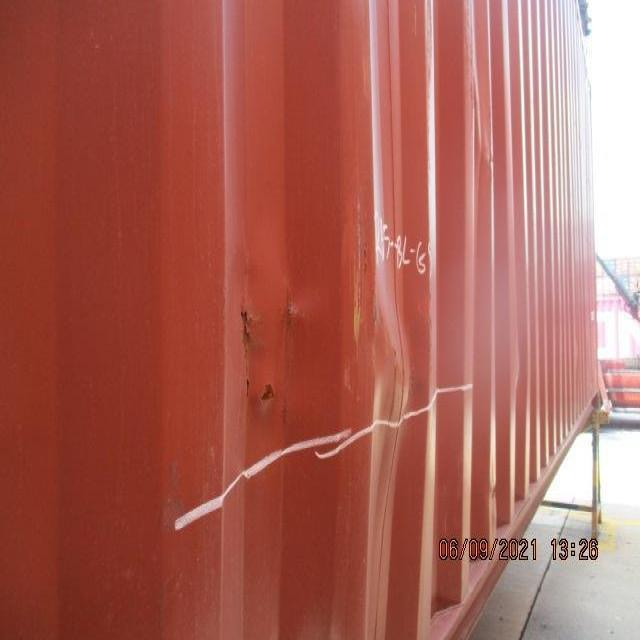Dent: (156, 207, 468, 531)
Minor-Dent: (461, 92, 511, 208)
